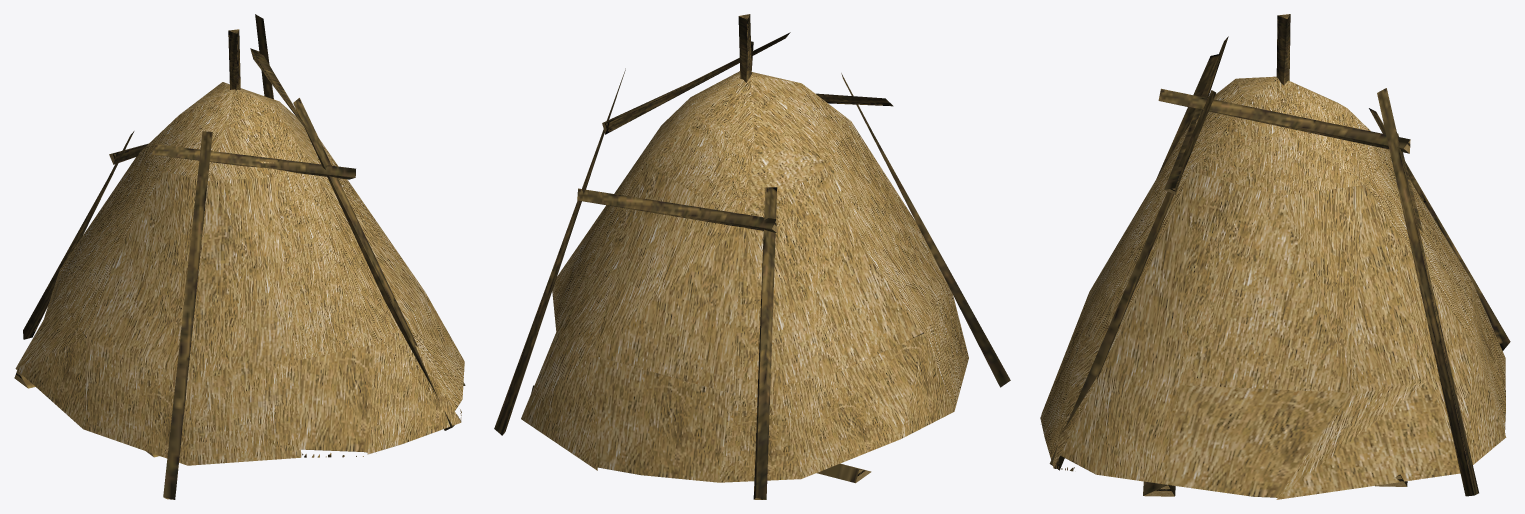
File: hayrick.glb
The picture shows the model from 3 angles, left to right: view 1: azimuth 30°, elevation 25°; view 2: azimuth 150°, elevation 25°; view 3: azimuth 270°, elevation 25°; orthographic projection. The views are drawn at different scales.
Visible parts, largest first — view 1: hayrick; view 2: hayrick; view 3: hayrick.
Part boxes in pixels (bbox=[...]): hayrick: bbox=[14, 14, 465, 499]; hayrick: bbox=[494, 14, 1010, 499]; hayrick: bbox=[1040, 14, 1510, 499].
Bounding box in the file's own units: 3.58 × 3.5 × 3.62.
2 materials, 2 textured.
